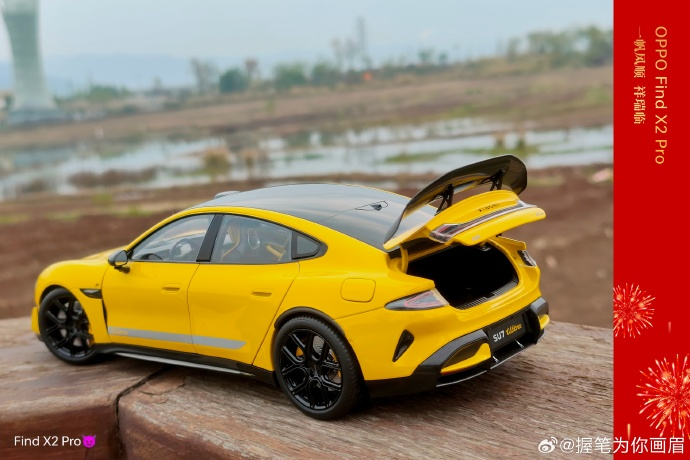su7: (37, 181, 568, 404)
